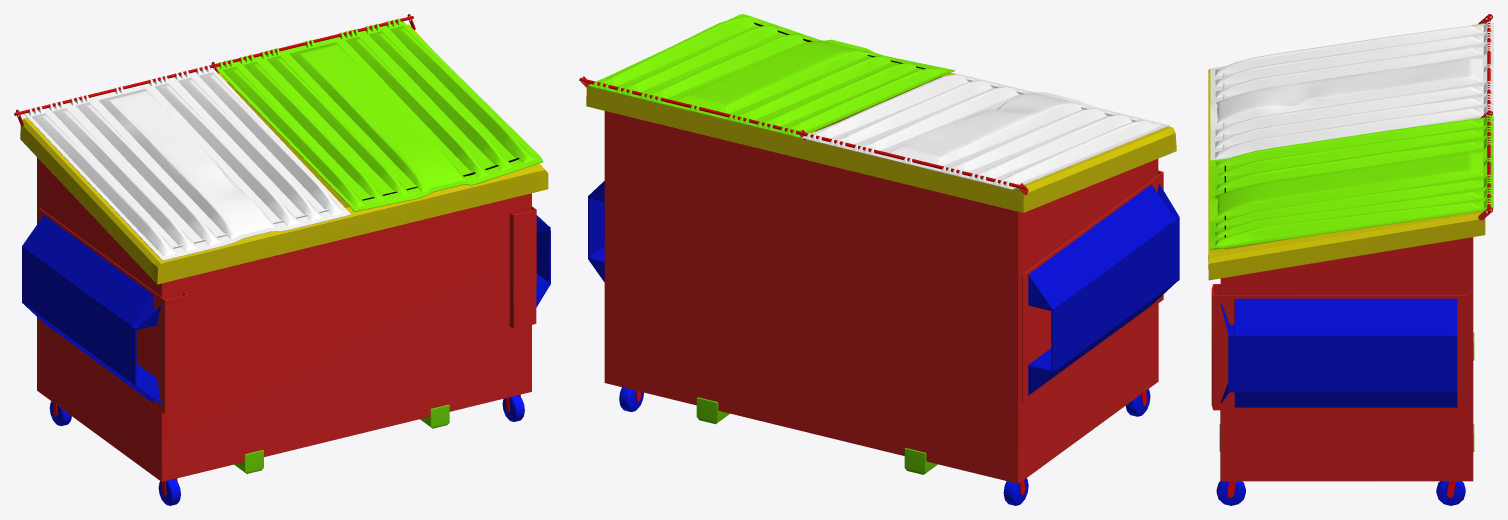
The model's file is newGC.fbx.
3 views of the same model, side by side, from view 1: azimuth 30°, elevation 25°; view 2: azimuth 150°, elevation 25°; view 3: azimuth 270°, elevation 25° (orthographic). The views are drawn at different scales.
Parts seen in each view (by area): view 1: GarbageCart, CoverRight, CoverLeft; view 2: GarbageCart, CoverRight, CoverLeft; view 3: GarbageCart, CoverLeft, CoverRight, Wheel3, Wheel4.
Part boxes in pixels (x1,y1,x2,y2): GarbageCart: (14,14,550,481); CoverRight: (214,18,543,211); CoverLeft: (24,65,351,260); GarbageCart: (579,72,1179,483); CoverRight: (588,14,954,137); CoverLeft: (801,74,1169,189); GarbageCart: (1208,14,1492,481); CoverLeft: (1210,21,1493,160); CoverRight: (1209,115,1493,249); Wheel3: (1436,481,1465,505); Wheel4: (1216,481,1245,505).
Bounding box in the file's own units: 2.31 × 1.62 × 1.36.
